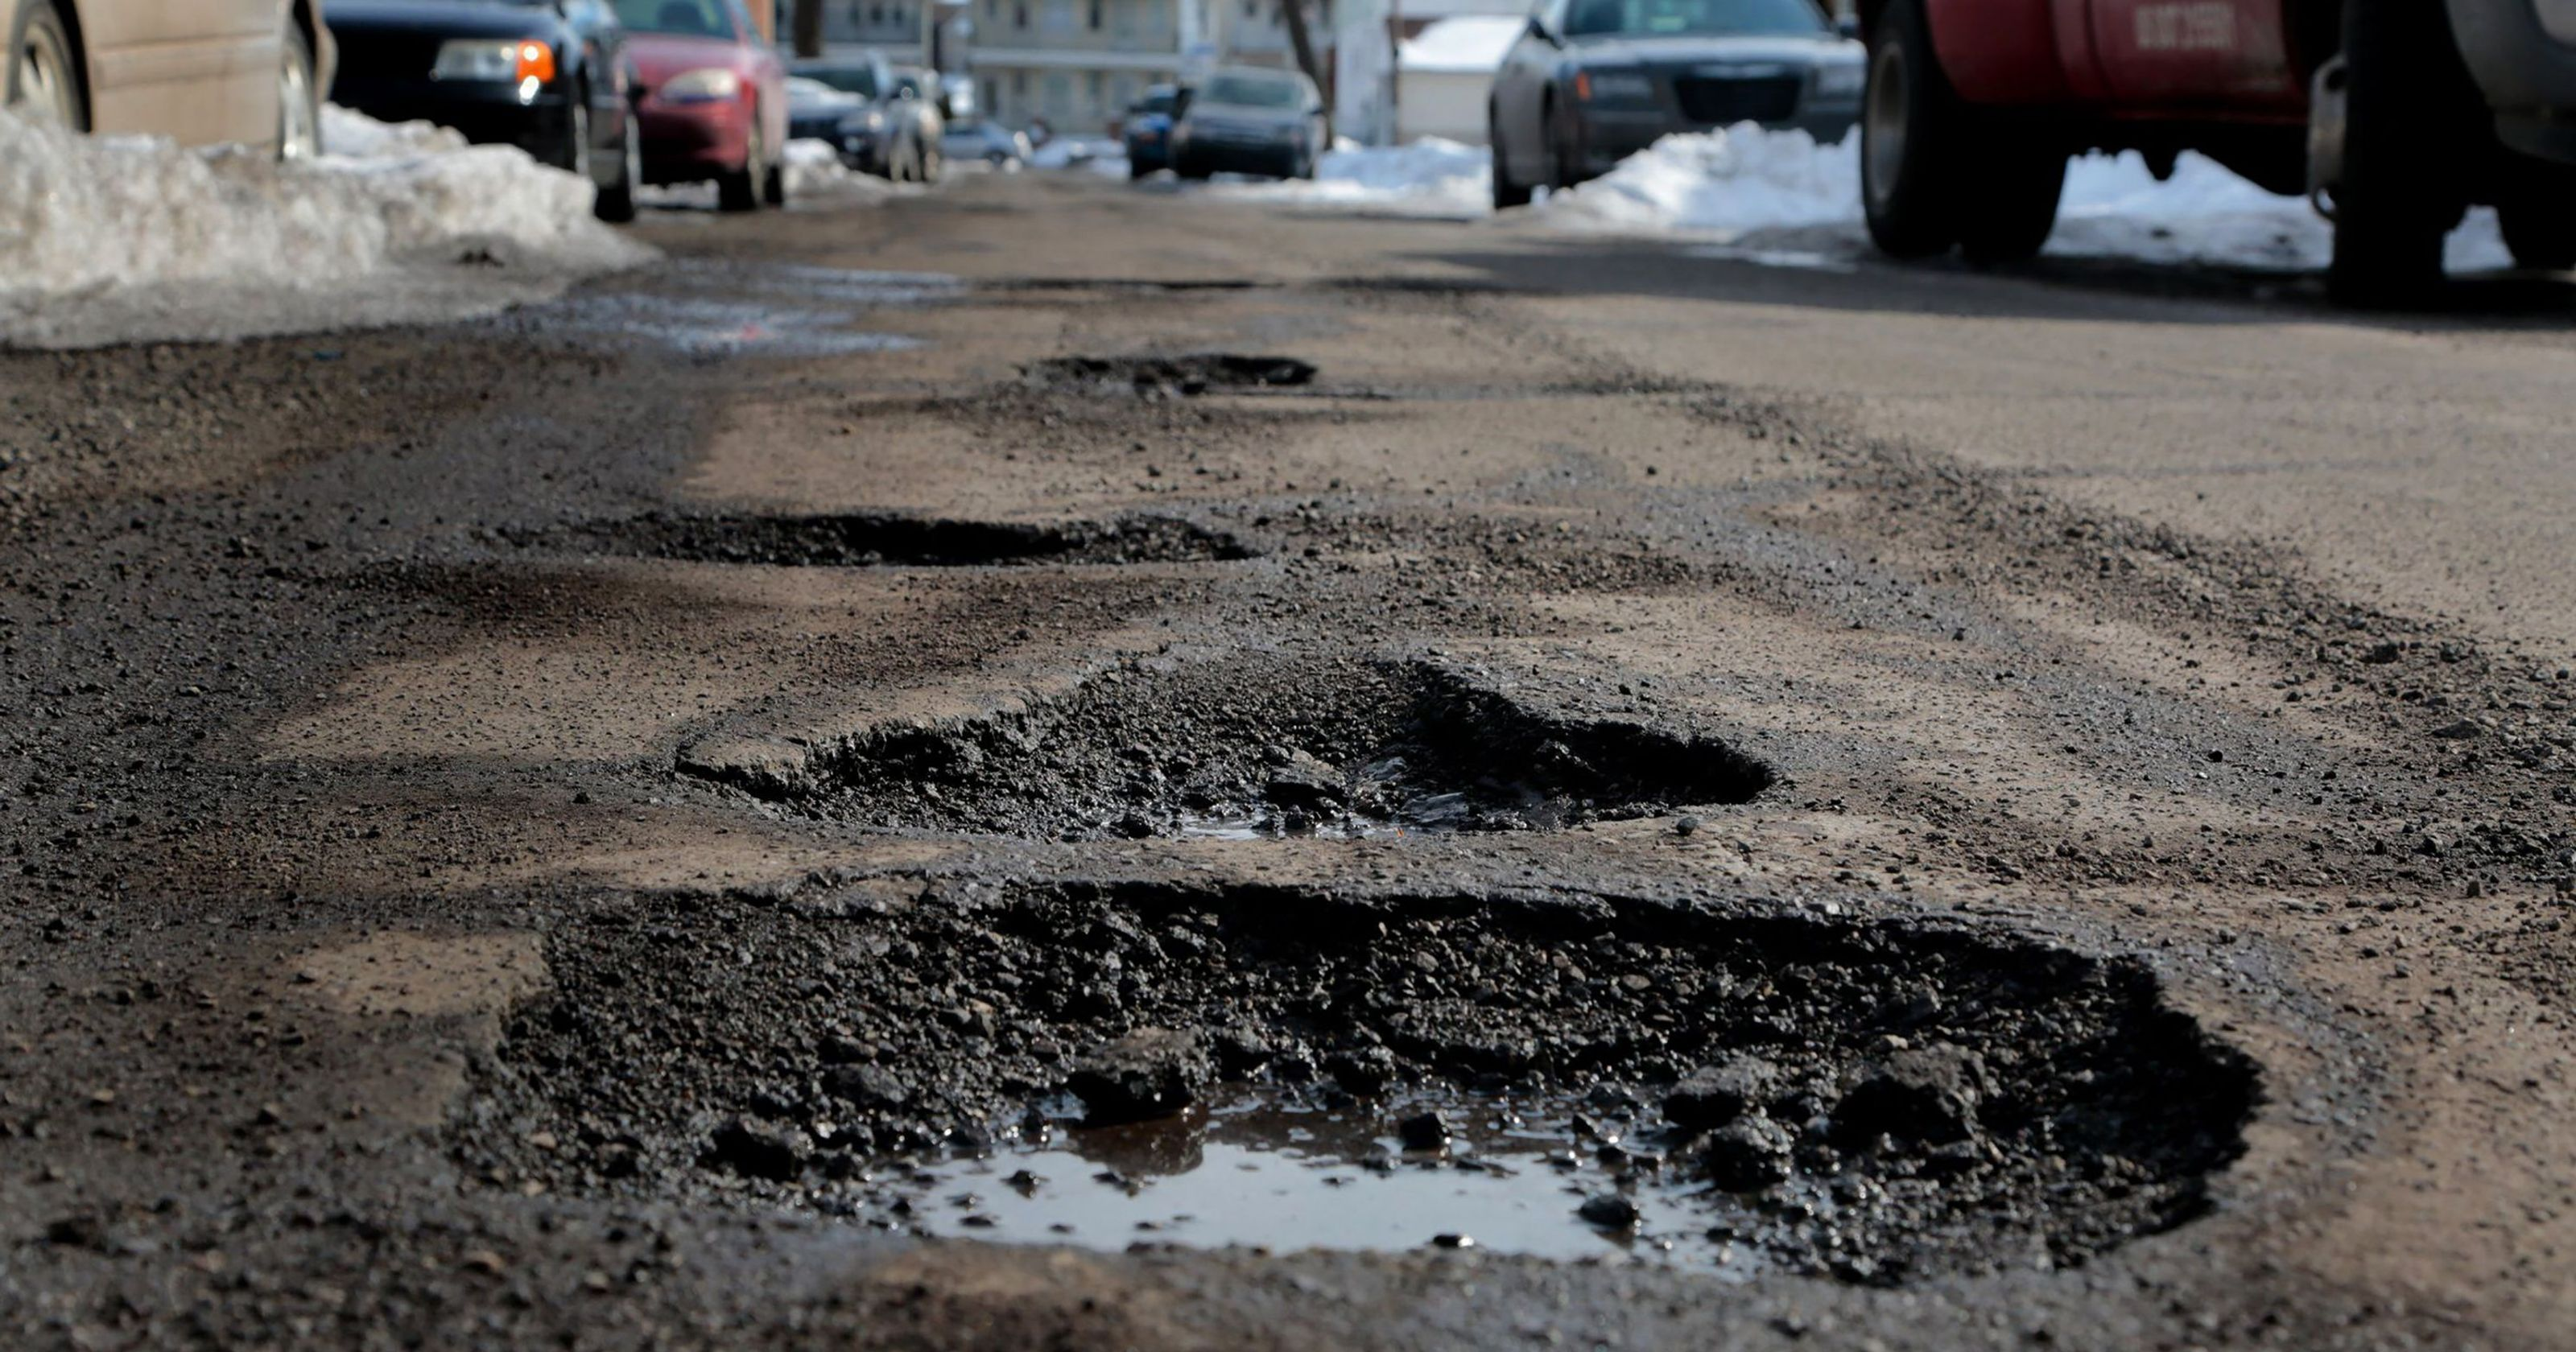pothole: (629, 875, 2274, 1337), (997, 611, 1791, 880), (388, 460, 1276, 637), (966, 300, 1308, 444)
